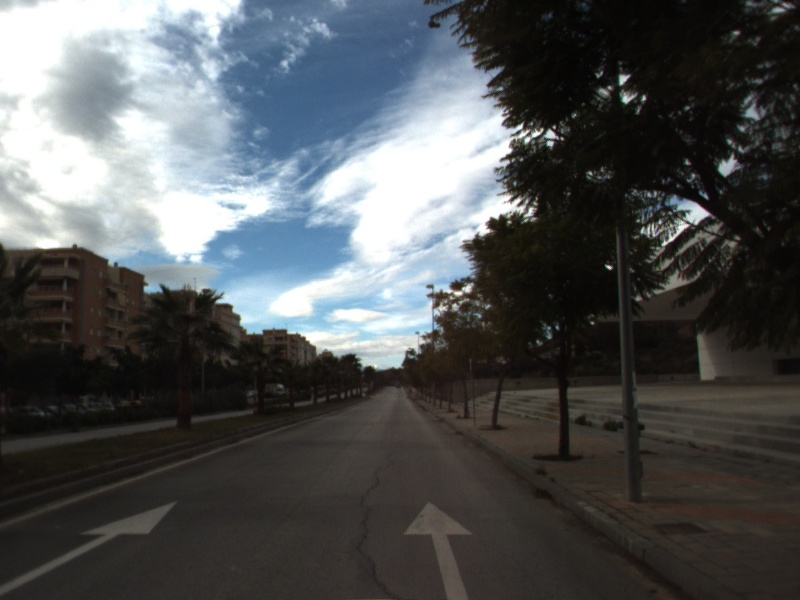STRAIGHT: (1, 498, 182, 597), (401, 499, 476, 600)
